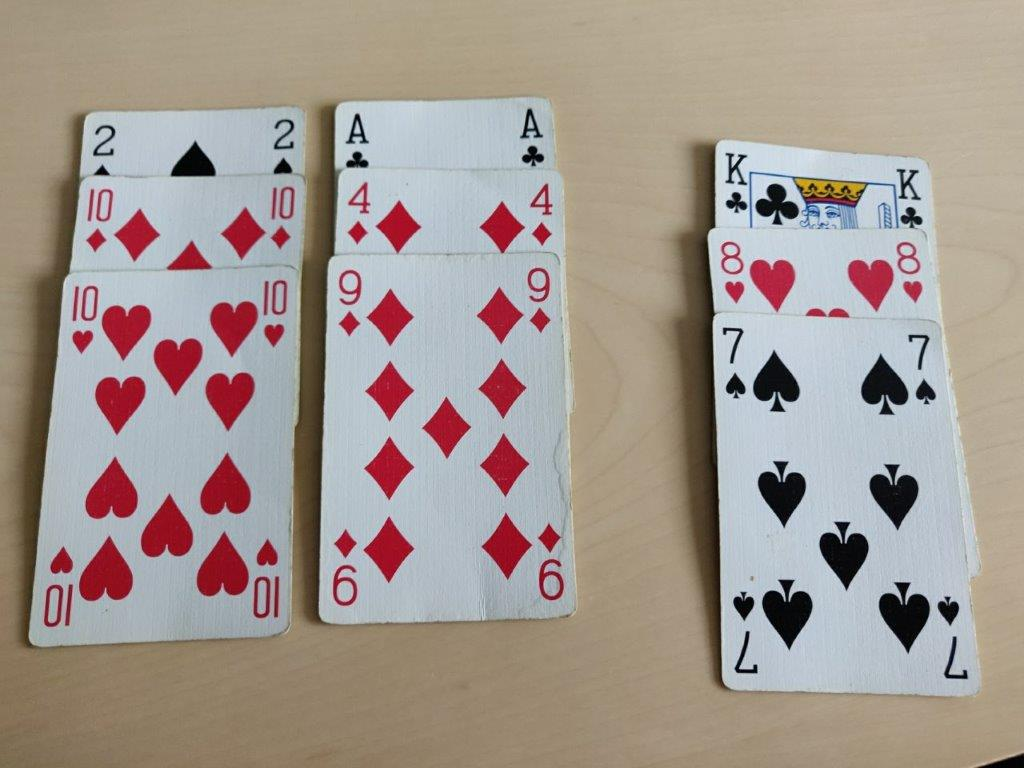10D: (79, 185, 119, 259), (261, 183, 301, 257)
10H: (62, 279, 103, 360), (257, 273, 296, 349)
2S: (84, 116, 122, 178), (265, 113, 303, 175)
4D: (339, 176, 375, 250), (525, 178, 561, 252)
7S: (715, 318, 750, 409), (907, 327, 942, 418)
8H: (711, 233, 748, 310), (893, 237, 930, 314)
9D: (333, 260, 369, 344), (523, 260, 559, 344)
AC: (340, 103, 374, 171), (517, 102, 551, 170)
KC: (717, 147, 755, 225), (892, 160, 929, 232)
